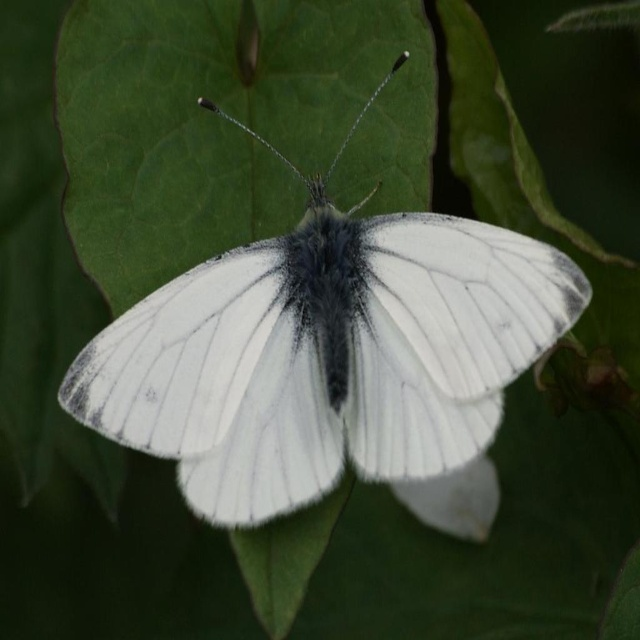Butterfly: (58, 51, 593, 531)
